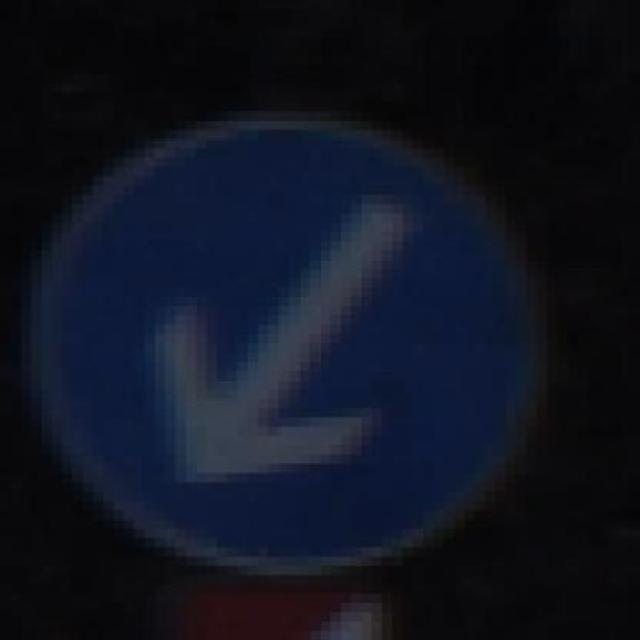Keep-Left: (10, 110, 578, 584)
